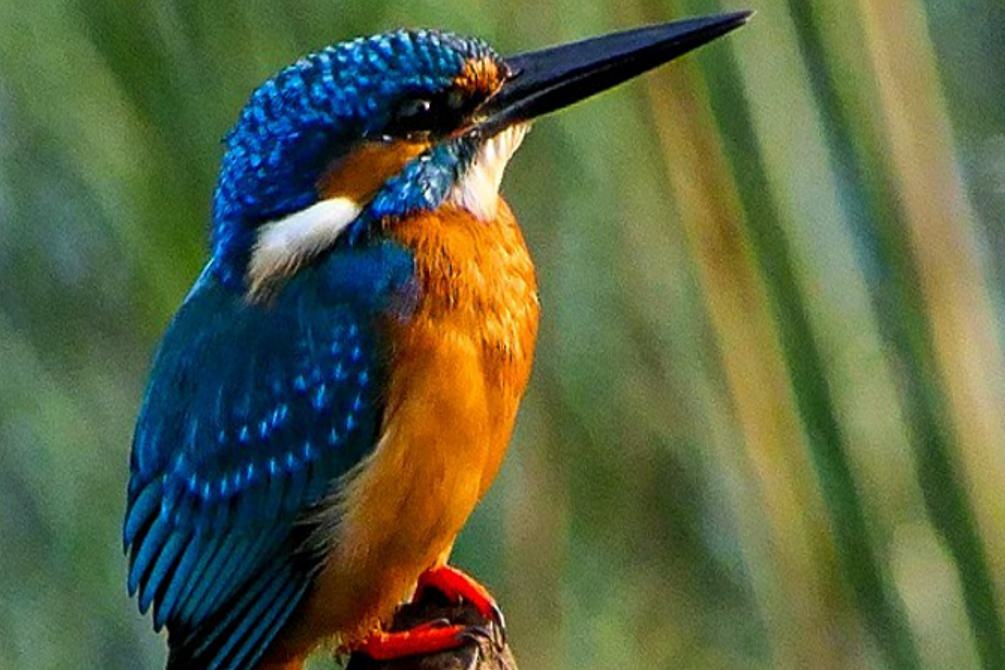kingfisher: (98, 6, 771, 670)
